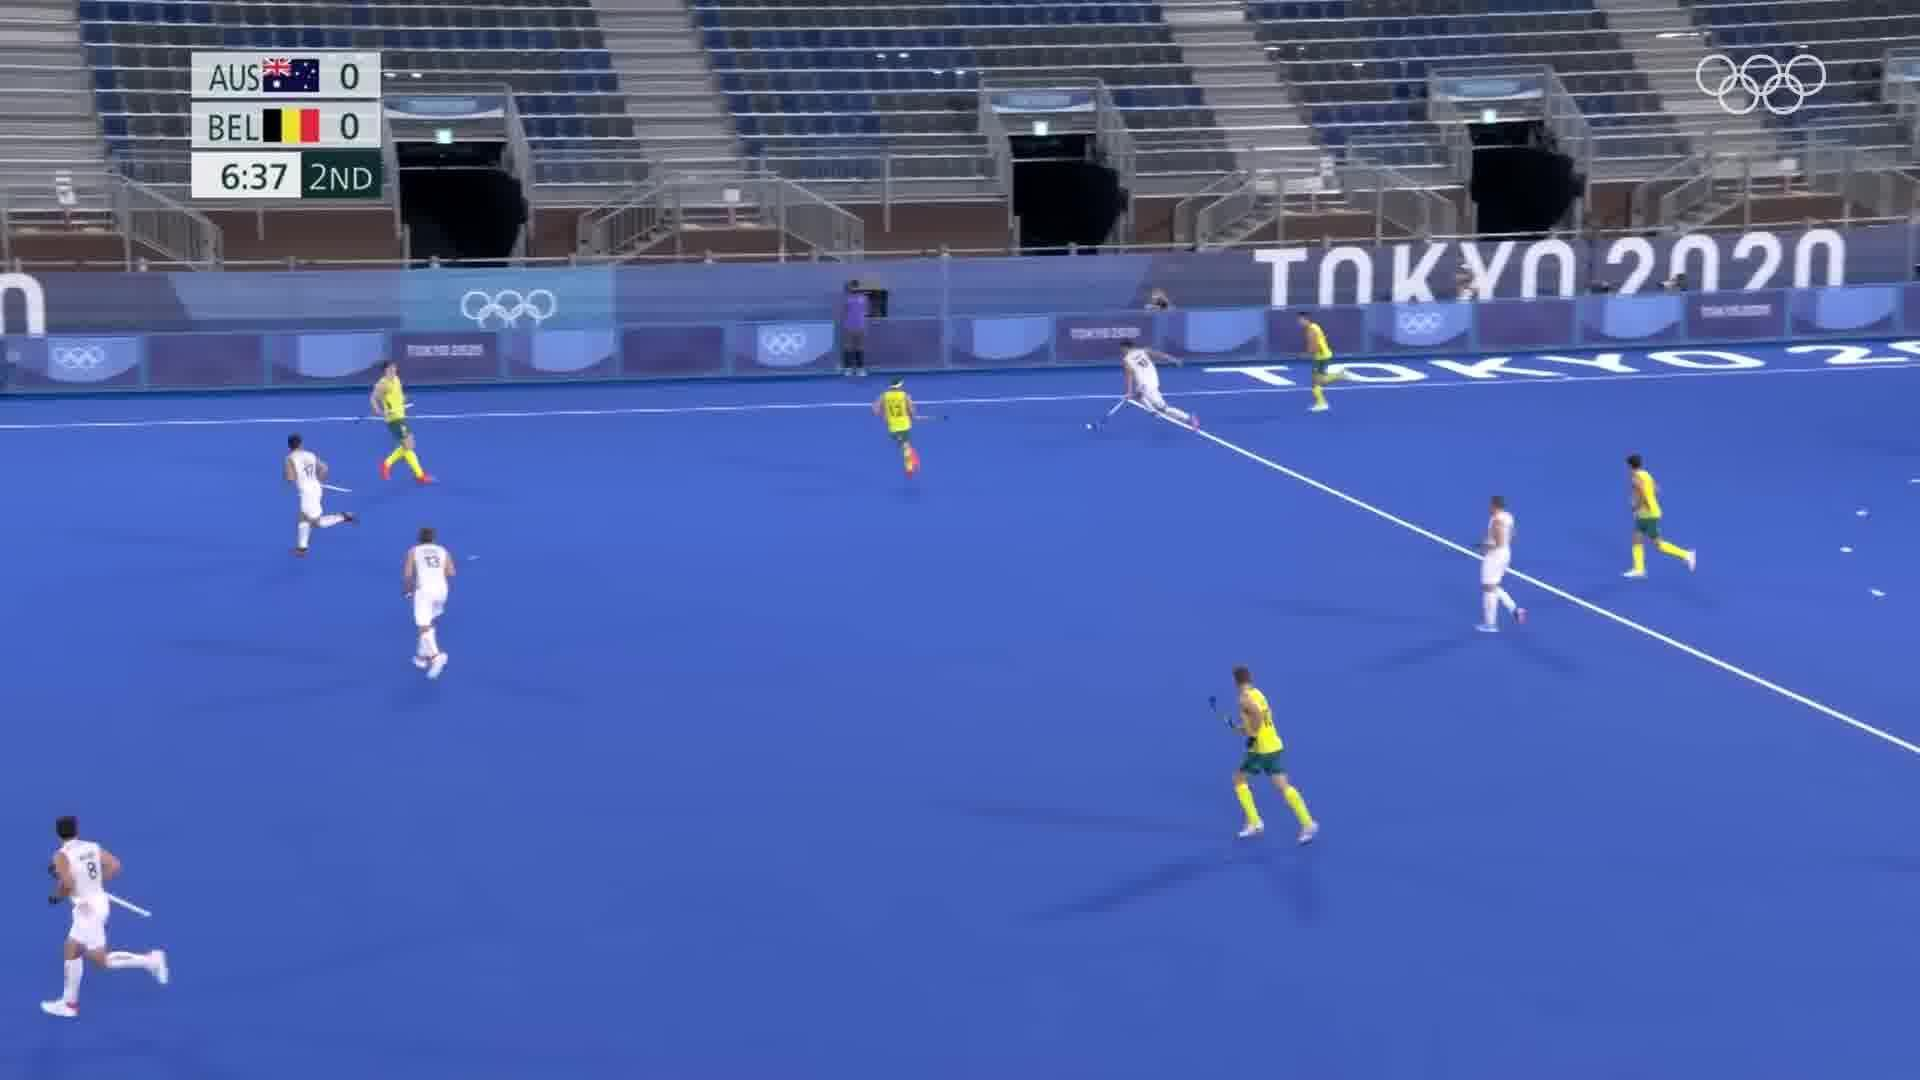ball: (1079, 418, 1098, 434)
